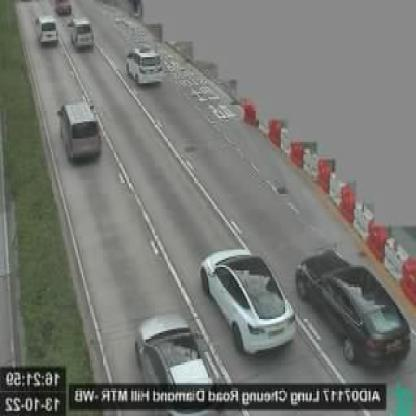Car: (296, 248, 412, 376), (200, 246, 296, 354), (135, 312, 227, 406), (57, 99, 104, 162), (125, 45, 164, 87), (68, 17, 95, 50), (34, 13, 59, 48)
